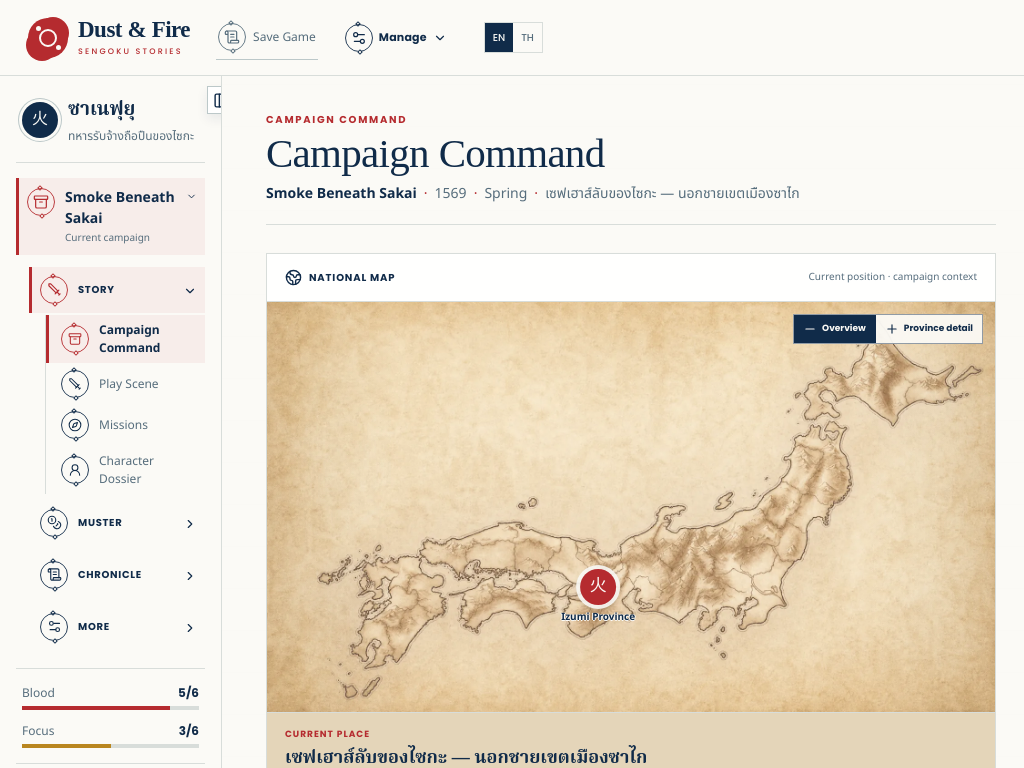
UI Preview click flow › requires a second explicit confirmation before deleting a manual local save
Click the button "More" at {"x": 117, "y": 626}, box [29, 604, 205, 650]
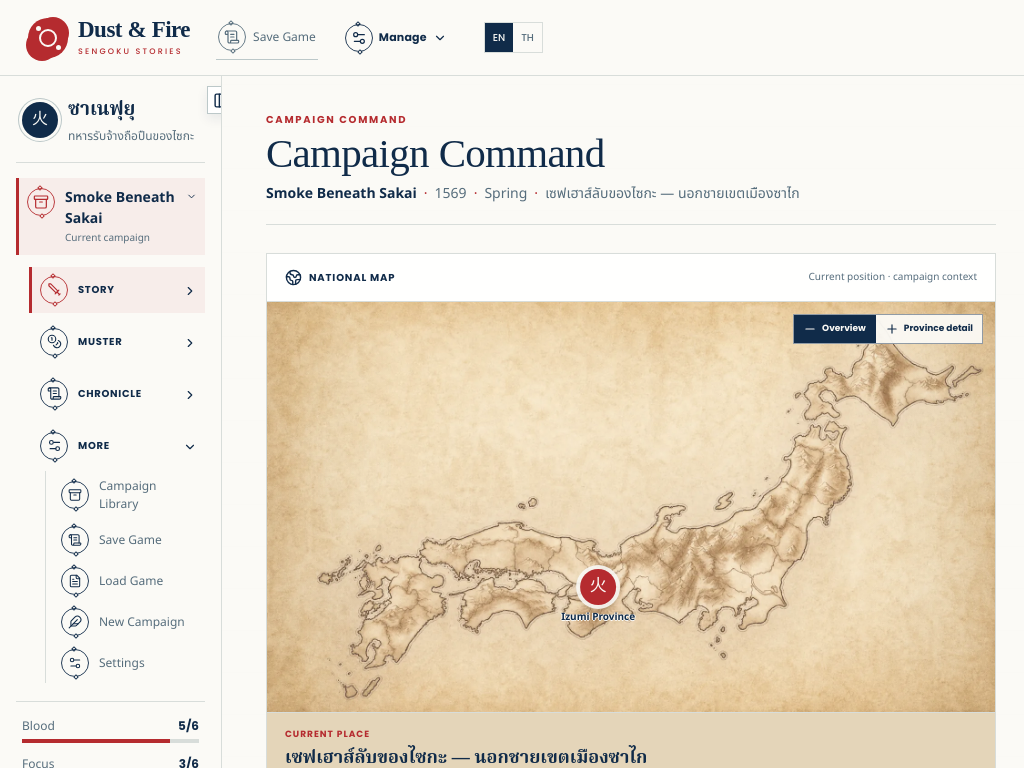
Click the button "Load Game" at {"x": 126, "y": 580}, box [46, 560, 205, 600]
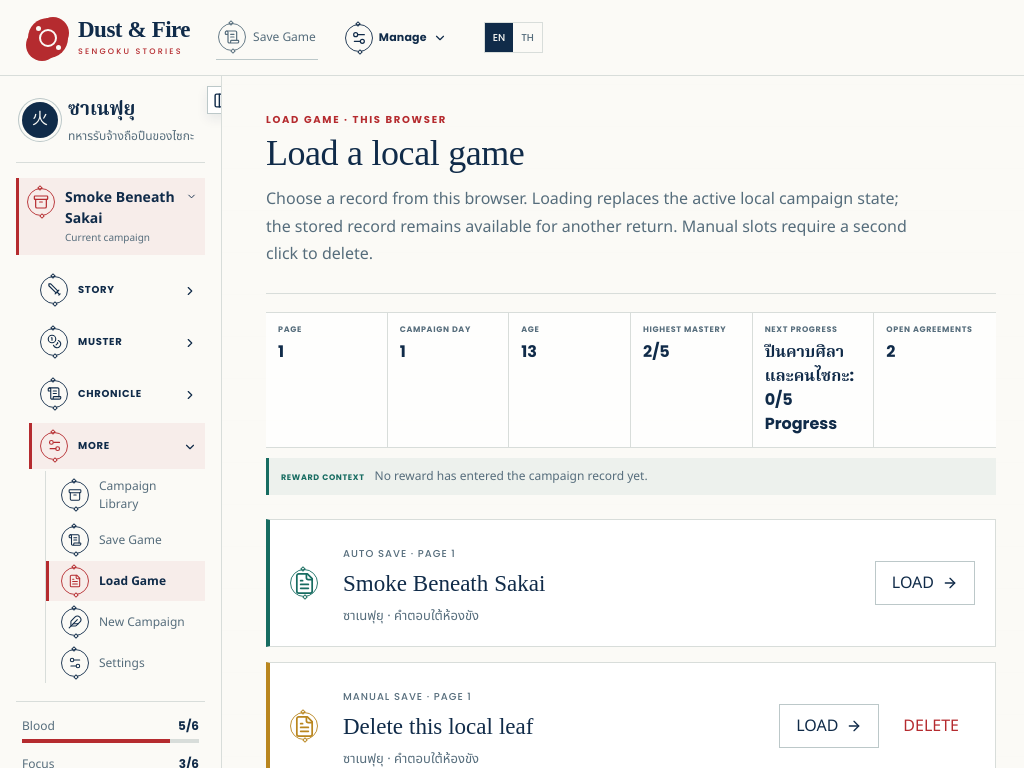
Click the button "DELETE" at {"x": 931, "y": 726}, box [887, 704, 975, 748]
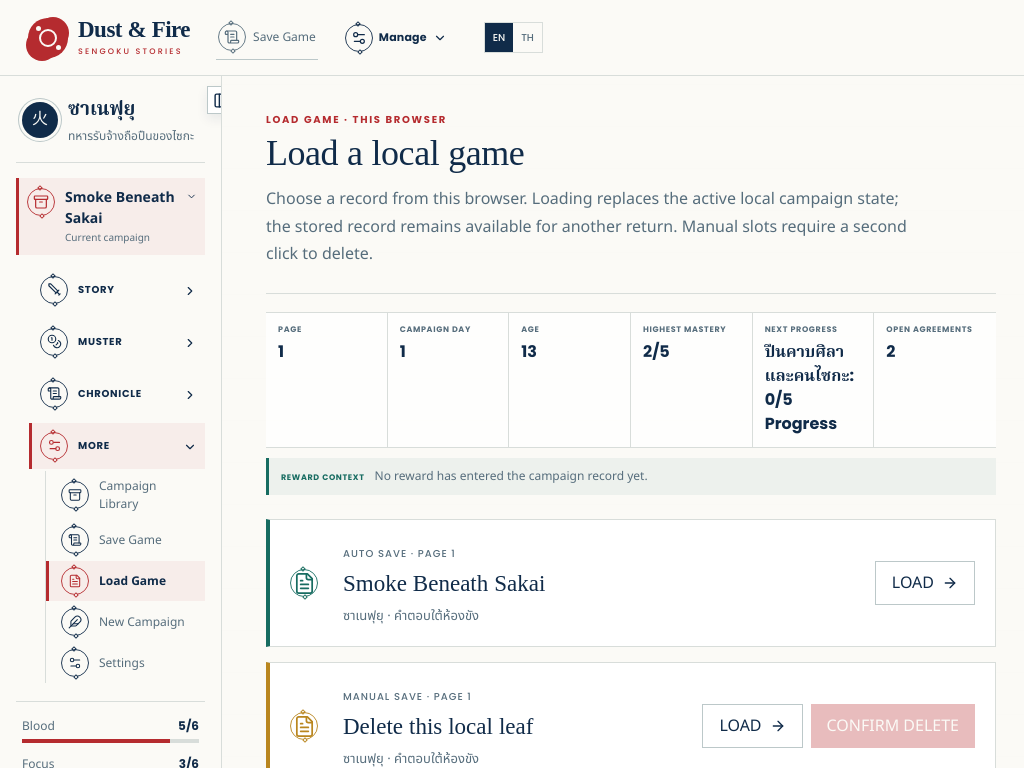
Result: the heading "Delete this local leaf" is shown at [343, 710, 533, 746]
Result: the button "CONFIRM DELETE" is shown
Click the button "CONFIRM DELETE" at {"x": 893, "y": 726}, box [810, 704, 975, 748]
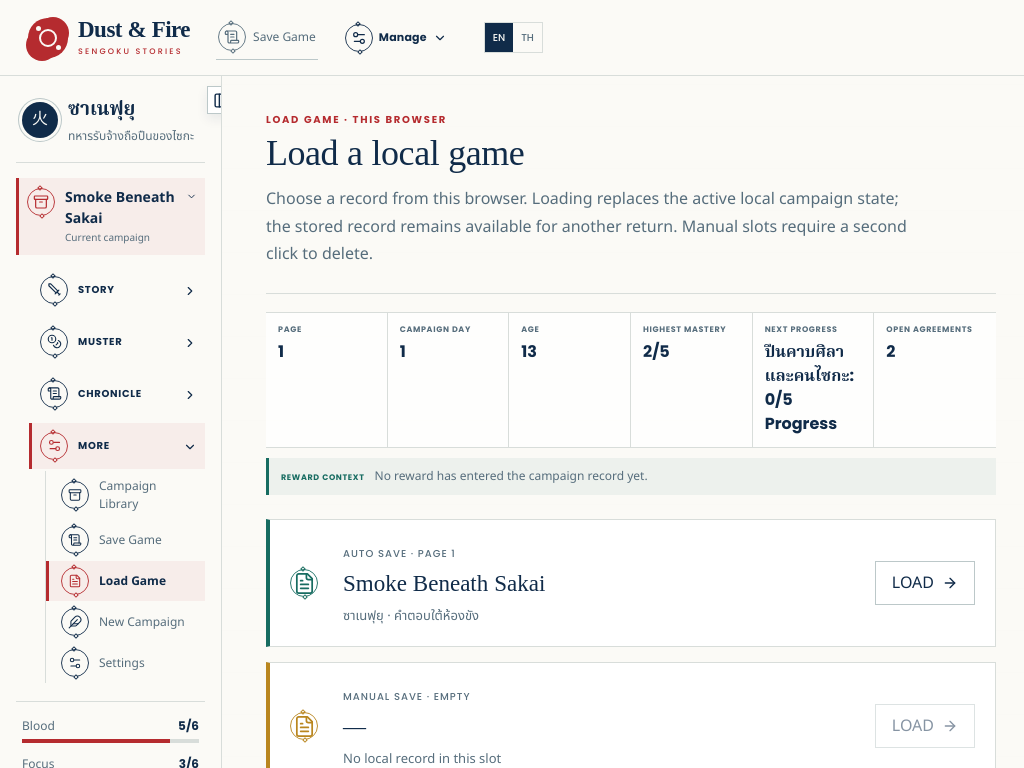
Result: the heading "Delete this local leaf" is gone
